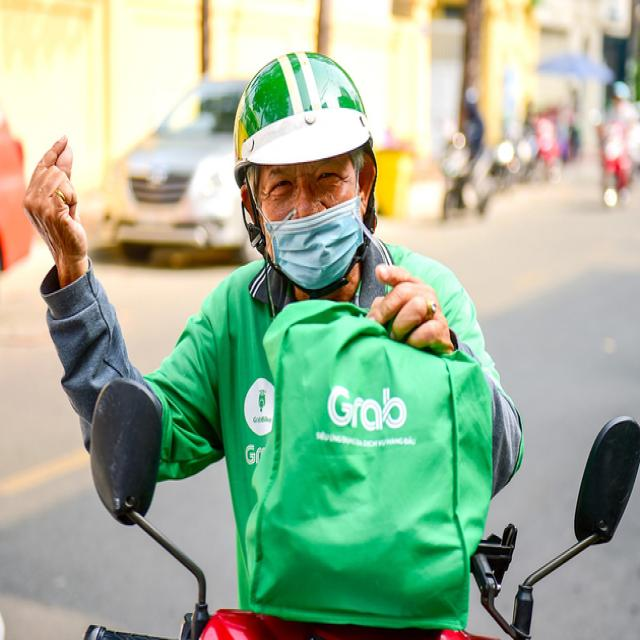helmet: (233, 52, 373, 187)
